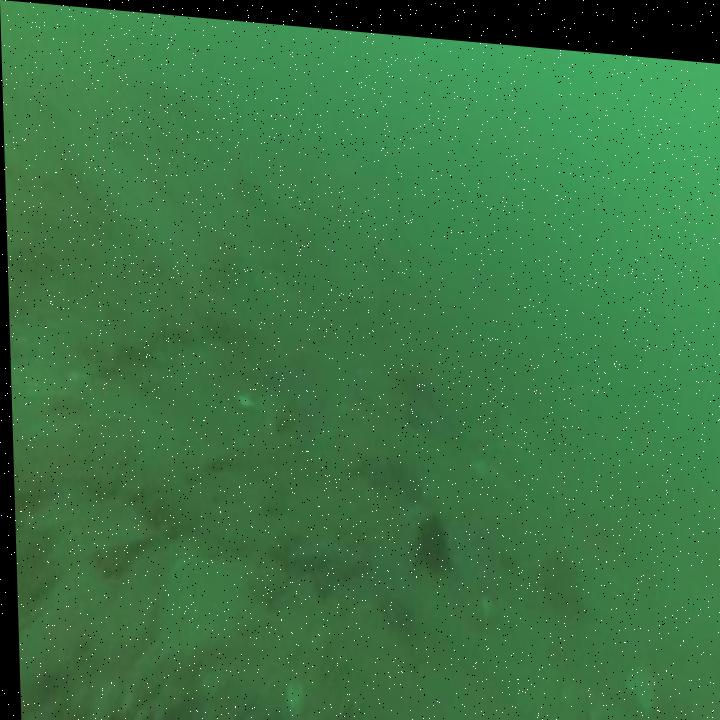echinus: (412, 506, 444, 567)
starfish: (536, 533, 578, 603)
